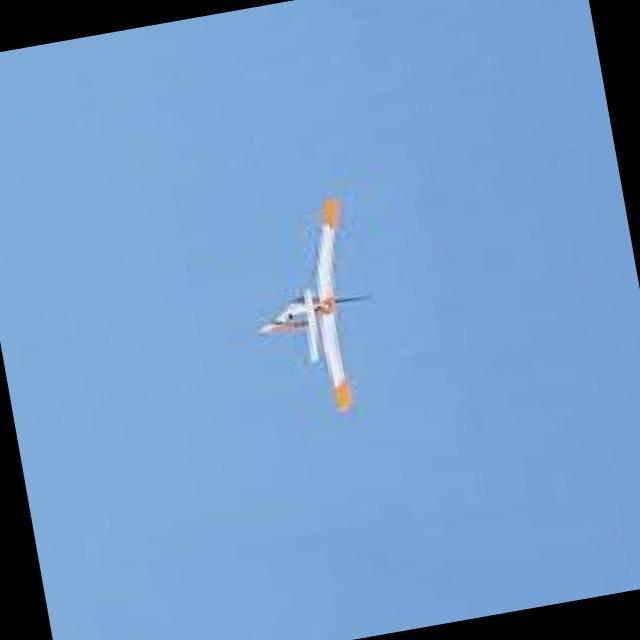iha: (205, 195, 402, 474)
